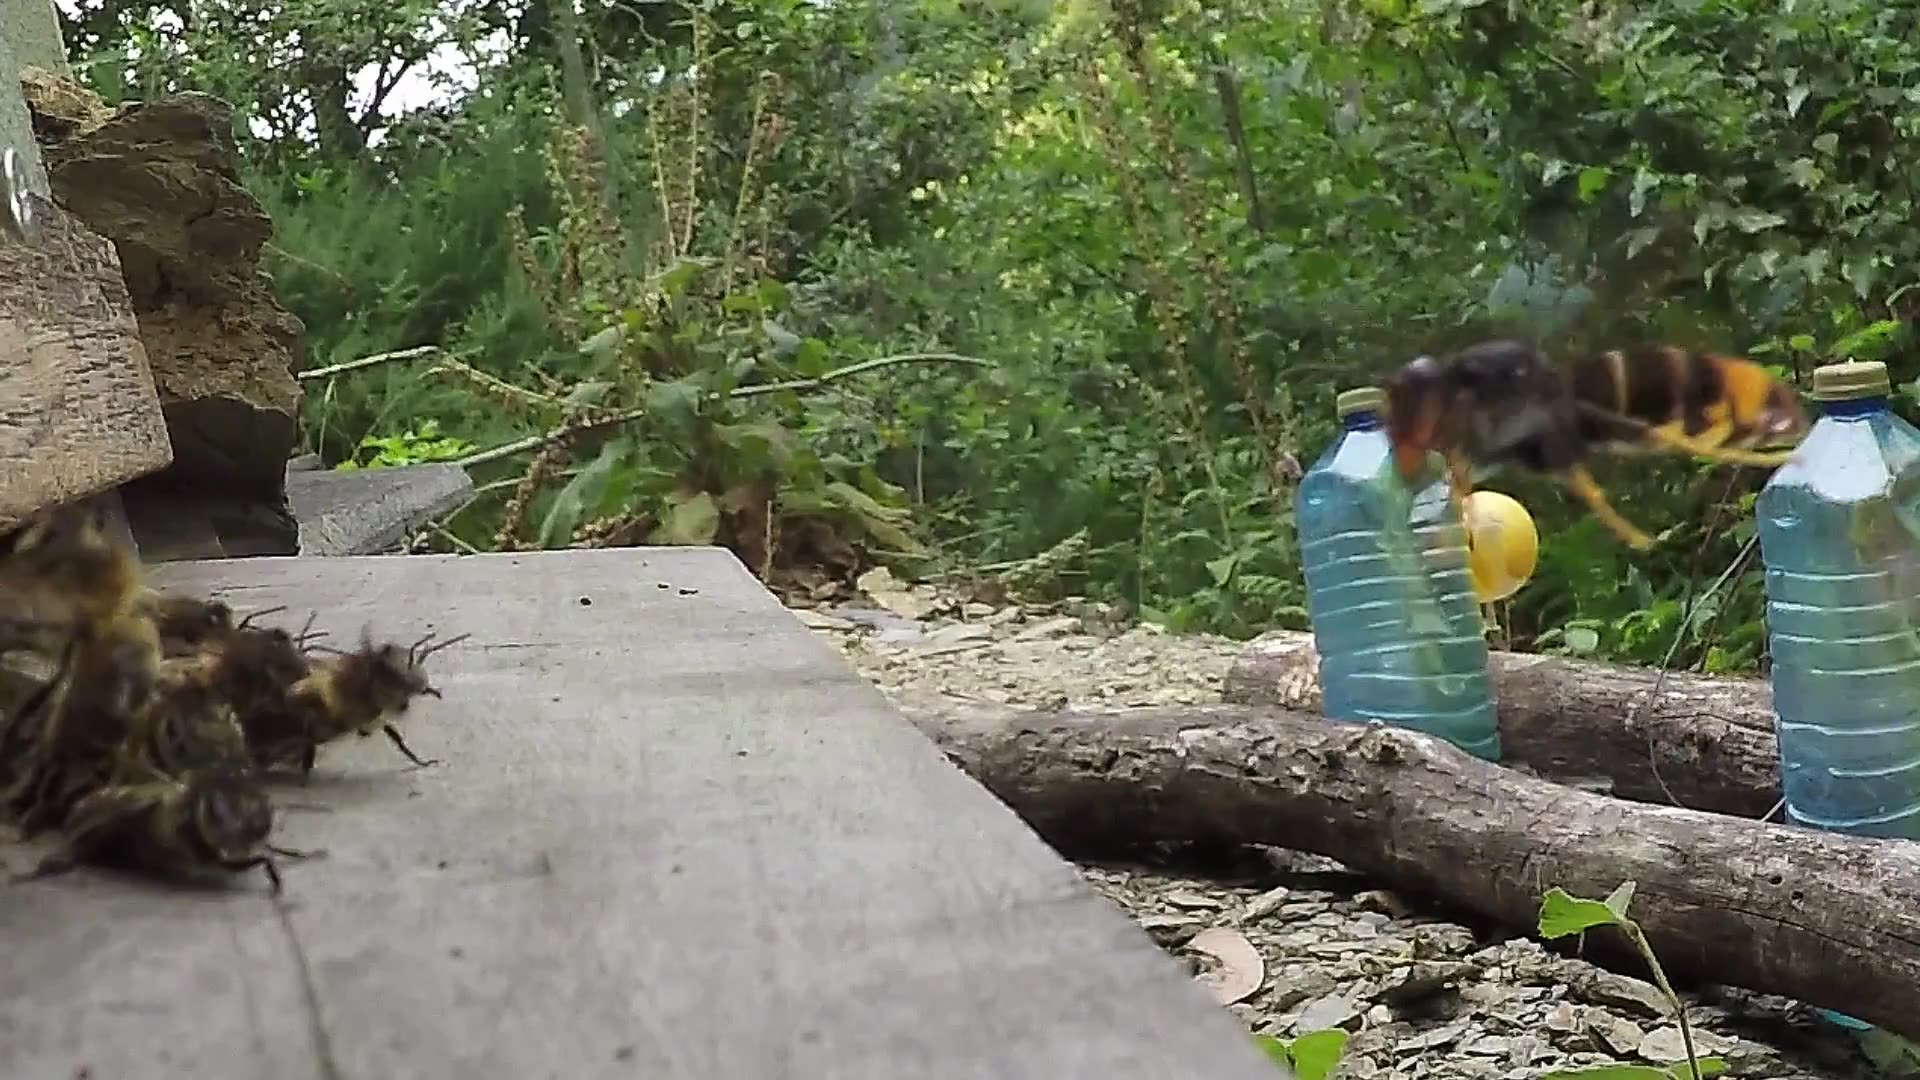bee: (1, 520, 448, 902)
hornet: (1365, 314, 1801, 522)
